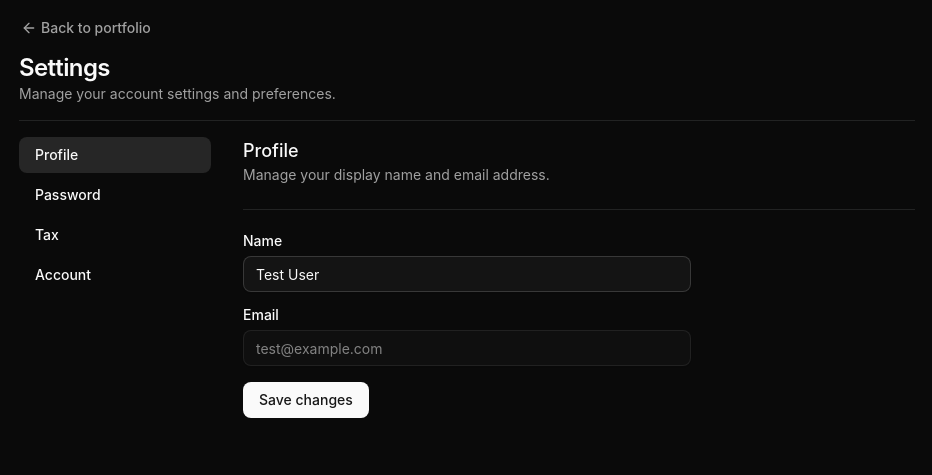
Test: SettingsPage › switches to Account section when Account nav is clicked
The image size is (932, 475).
Click the button "Account": x=115, y=275 [19, 257, 211, 293]
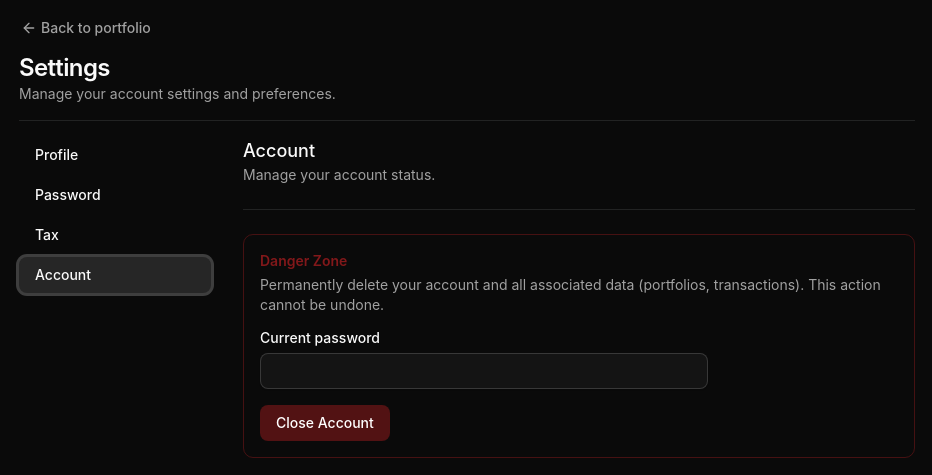
Check: the heading "Danger Zone" is shown, box [260, 252, 347, 269]
Check: the text labelled "name" is gone
